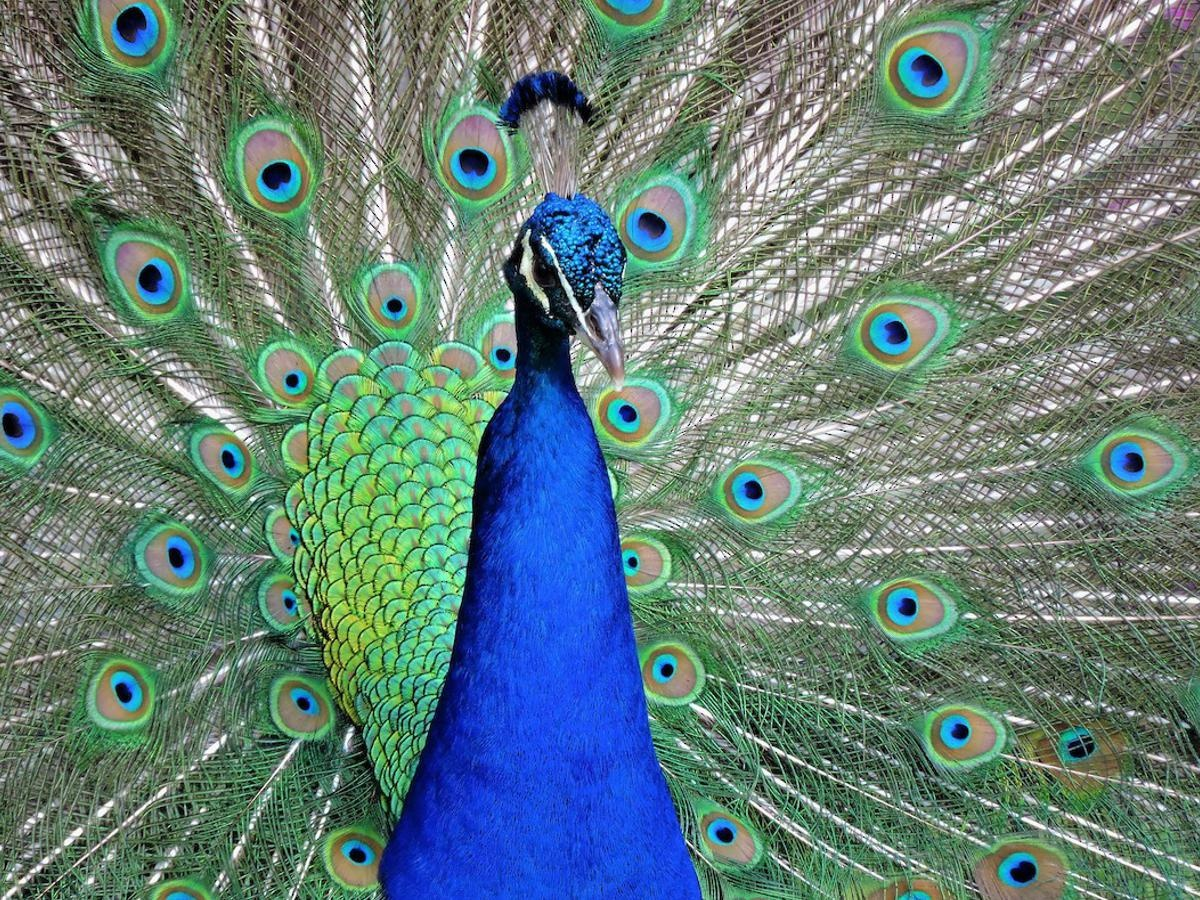peacock: (184, 74, 980, 900)
